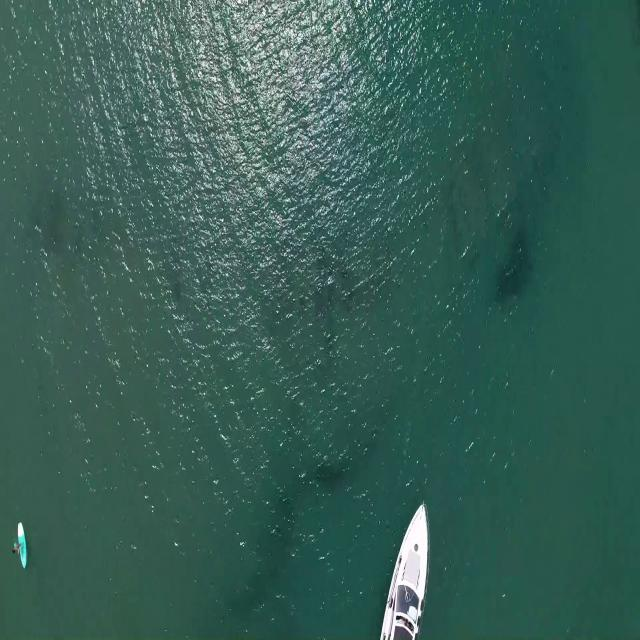boat: (381, 500, 430, 632)
person: (12, 540, 23, 552)
surfboard: (18, 521, 30, 569)
